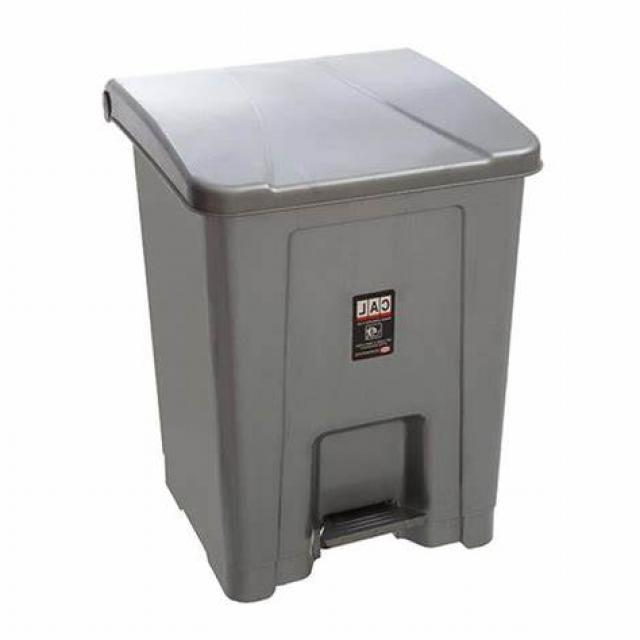garbage container: (63, 12, 550, 602)
